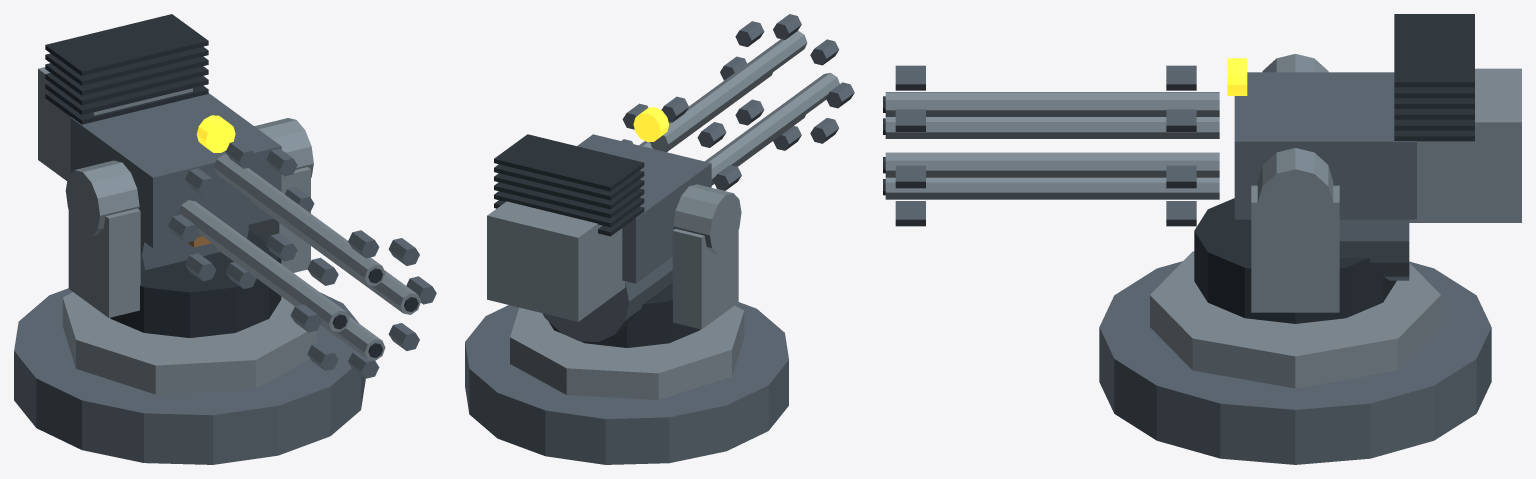
File: rotor_t2_d0.glb
The picture shows the model from 3 angles, left to right: view 1: azimuth 30°, elevation 25°; view 2: azimuth 150°, elevation 25°; view 3: azimuth 270°, elevation 25°; orthographic projection. The views are drawn at different scales.
Parts seen in each view (by area): view 1: BASE_ARMOR_GEOMETRY, RECOIL_ARMOR_GEOMETRY, ROTOR_ARMOR_GEOMETRY, YAW_ARMOR_GEOMETRY, RECOIL_SIGNAL_GEOMETRY; view 2: BASE_ARMOR_GEOMETRY, RECOIL_ARMOR_GEOMETRY, ROTOR_ARMOR_GEOMETRY, YAW_ARMOR_GEOMETRY, RECOIL_SIGNAL_GEOMETRY; view 3: BASE_ARMOR_GEOMETRY, RECOIL_ARMOR_GEOMETRY, ROTOR_ARMOR_GEOMETRY, YAW_ARMOR_GEOMETRY, RECOIL_SIGNAL_GEOMETRY.
Boxes of the visible parts, box(x1,y1,x2,y2) form: BASE_ARMOR_GEOMETRY: box(14, 288, 365, 464); RECOIL_ARMOR_GEOMETRY: box(38, 14, 313, 270); ROTOR_ARMOR_GEOMETRY: box(168, 140, 436, 378); YAW_ARMOR_GEOMETRY: box(68, 167, 310, 337); RECOIL_SIGNAL_GEOMETRY: box(196, 115, 235, 152); BASE_ARMOR_GEOMETRY: box(465, 302, 788, 464); RECOIL_ARMOR_GEOMETRY: box(487, 134, 741, 341); ROTOR_ARMOR_GEOMETRY: box(621, 14, 854, 190); YAW_ARMOR_GEOMETRY: box(549, 228, 738, 347); RECOIL_SIGNAL_GEOMETRY: box(633, 107, 669, 141); BASE_ARMOR_GEOMETRY: box(1099, 251, 1491, 464); RECOIL_ARMOR_GEOMETRY: box(1234, 14, 1521, 280); ROTOR_ARMOR_GEOMETRY: box(883, 65, 1219, 226); YAW_ARMOR_GEOMETRY: box(1194, 185, 1396, 323); RECOIL_SIGNAL_GEOMETRY: box(1227, 58, 1247, 95).
Bounding box in the file's own units: 1.55 × 1.46 × 2.53.
